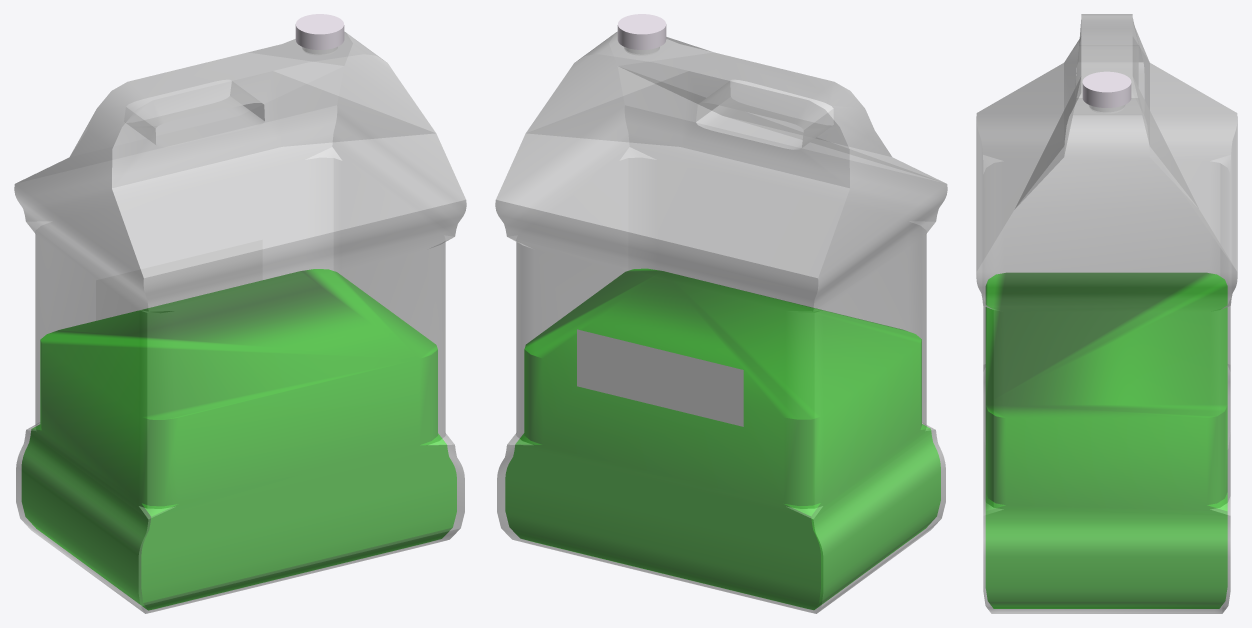
File: bottle_large_green.fbx
3 views of the same model, side by side, from view 1: azimuth 30°, elevation 25°; view 2: azimuth 150°, elevation 25°; view 3: azimuth 270°, elevation 25° (orthographic).
Visible parts, largest first — view 1: Cube.062, Cube.064, Cylinder.021; view 2: Cube.062, Cube.064, Cylinder.021; view 3: Cube.062, Cube.064, Cylinder.021.
Part boxes in pixels (x1,y1,x2,y2): Cube.062: (14,31,466,613); Cube.064: (21,269,456,610); Cylinder.021: (295,14,344,49); Cube.062: (495,31,947,613); Cube.064: (505,268,940,609); Cylinder.021: (617,14,666,49); Cube.062: (976,14,1237,613); Cube.064: (985,272,1227,608); Cylinder.021: (1082,71,1131,107).
Size of the model in its own units: 20 by 29.03 by 13.73.
